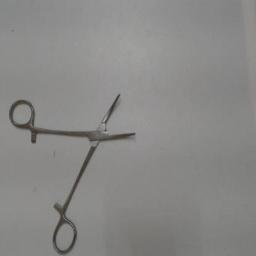Crile Artery Forceps: (5, 86, 139, 254)
